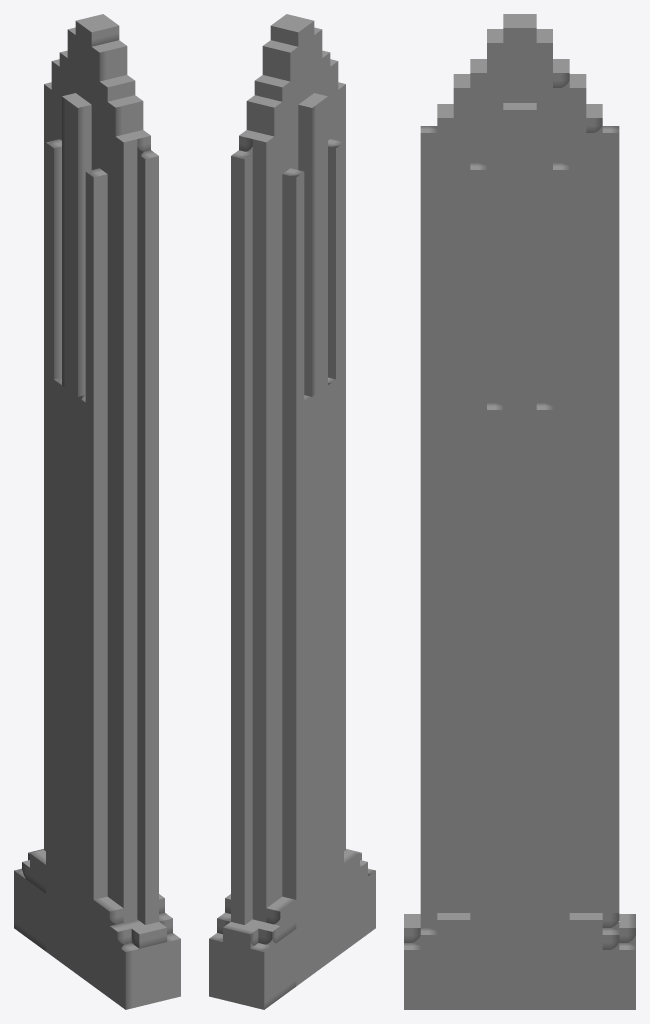
The model's file is Blade.obj.
3 views of the same model, side by side, from view 1: azimuth 30°, elevation 25°; view 2: azimuth 150°, elevation 25°; view 3: azimuth 270°, elevation 25° (orthographic). The views are drawn at different scales.
Visible parts, largest first — view 1: Model; view 2: Model; view 3: Model.
Part boxes in pixels (box(x1,y1,x2,y2)): Model: box(14, 14, 180, 1009); Model: box(209, 14, 375, 1009); Model: box(404, 14, 635, 1009).
Size of the model in its own units: 1 by 16.25 by 3.5.
1 material, 1 textured.
